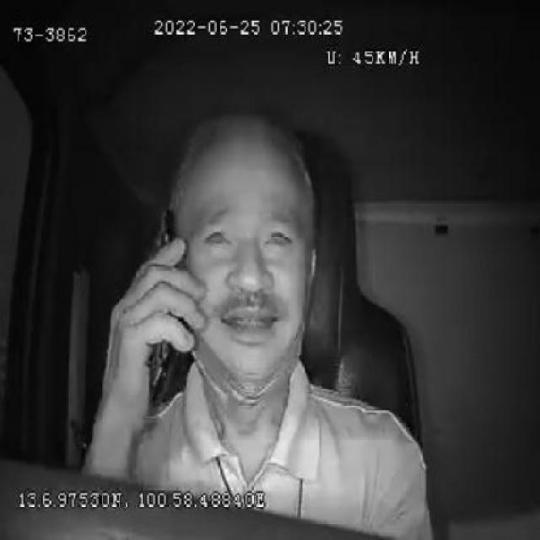phone: (140, 210, 186, 400)
